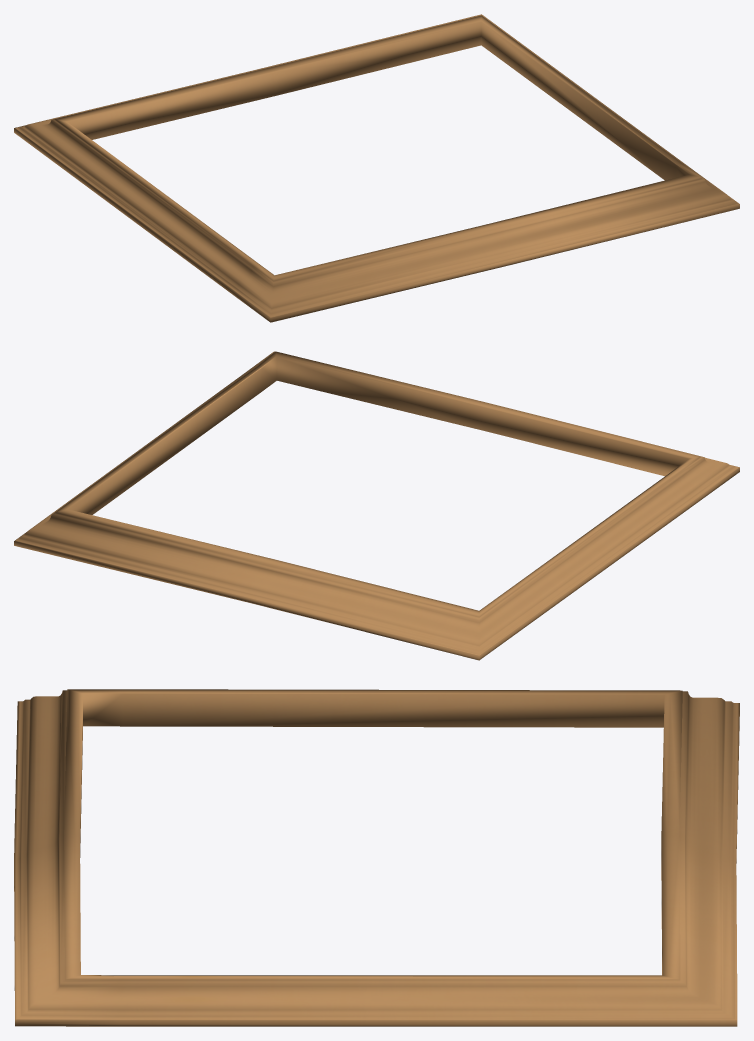
The model's file is marco.anchoooo.fbx.
3 renders of one model, top to bottom at view 1: azimuth 30°, elevation 25°; view 2: azimuth 150°, elevation 25°; view 3: azimuth 270°, elevation 25°, orthographic. The views are drawn at different scales.
Parts seen in each view (by area): view 1: Cube.001; view 2: Cube.001; view 3: Cube.001.
Part boxes in pixels (x1,y1,x2,y2): Cube.001: (14,14,739,322); Cube.001: (14,351,739,660); Cube.001: (14,689,739,1026).
Size of the model in its own units: 84.54 by 4.1 by 81.18.
Materials: 1 (1 with a texture image).
